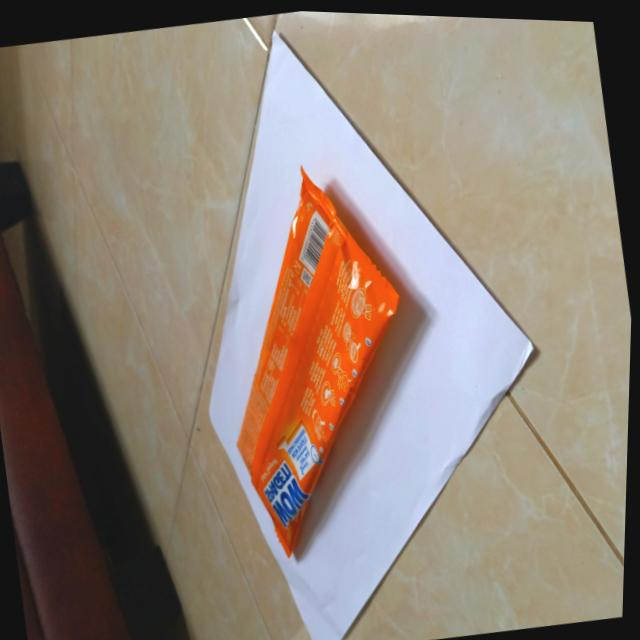indomie-tori-miso: (193, 148, 445, 568)
